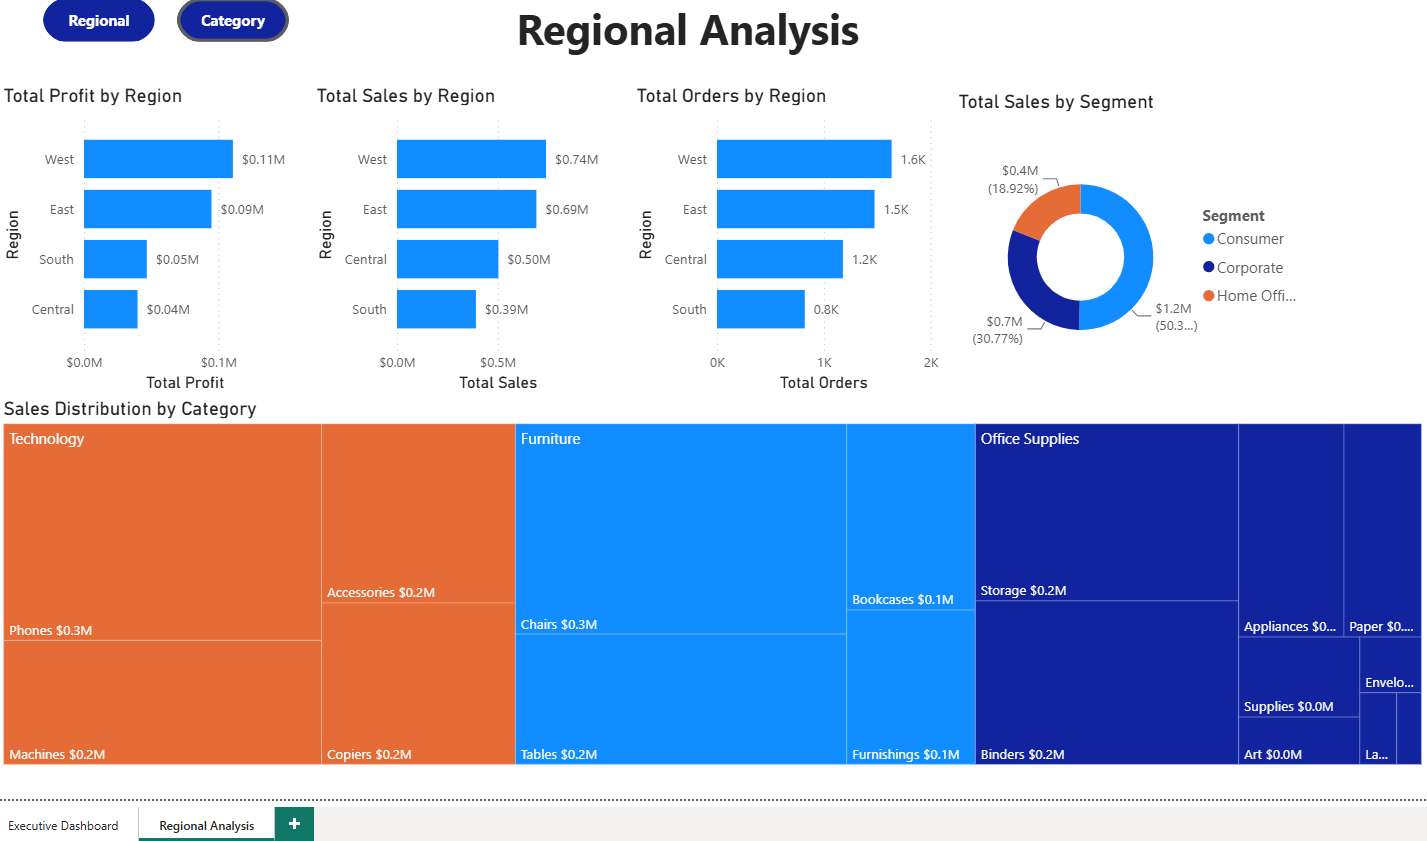

The dashboard page shown, as its layout file describes it:
{"tool":"powerbi","page":{"name":"Regional Analysis","canvas":[1280,720],"ordinal":1},"visuals":[{"type":"clusteredBarChart","fields":{"Category":["sample_-_superstore.Region"],"Y":["sample_-_superstore.Total Profit"]},"box":[0,79.7,280.3,280.3],"z":0},{"type":"textbox","box":[459.4,0,403.9,85.1],"z":1000},{"type":"clusteredBarChart","fields":{"Category":["sample_-_superstore.Region"],"Y":["sample_-_superstore.Total Sales"]},"box":[280.3,79.7,280.3,280.3],"z":2000},{"type":"clusteredBarChart","title":"Total Orders by Region","fields":{"Category":["sample_-_superstore.Region"],"Y":["Count(sample_-_superstore.Order ID)"]},"box":[566.9,79.7,280.3,280.3],"z":3000},{"type":"donutChart","fields":{"Category":["sample_-_superstore.Segment"],"Y":["sample_-_superstore.Total Sales"]},"box":[855.2,85.1,322.4,280.3],"z":4000},{"type":"treemap","title":"Sales Distribution by Category","fields":{"Group":["sample_-_superstore.Category"],"Details":["sample_-_superstore.Sub-Category"],"Values":["sample_-_superstore.Total Sales"]},"box":[0,360,1279.7,334],"z":5000},{"type":"actionButton","box":[40.3,2.7,100.3,39.4],"z":6000},{"type":"actionButton","box":[160.3,2.7,100.3,39.4],"z":7000}]}

Visuals, with their boxes on the page's 1280x720 design canvas (x1, y1, x2, y2). These are canvas units, not pixel positions in the 1427x841 screenshot, which may show the page scaled, cropped or inside an application window:
clusteredBarChart - sample_-_superstore.Region x sample_-_superstore.Total Profit: detection(0, 80, 280, 360)
textbox: detection(459, 0, 863, 85)
clusteredBarChart - sample_-_superstore.Region x sample_-_superstore.Total Sales: detection(280, 80, 561, 360)
"Total Orders by Region" clusteredBarChart: detection(567, 80, 847, 360)
donutChart - sample_-_superstore.Segment x sample_-_superstore.Total Sales: detection(855, 85, 1178, 365)
"Sales Distribution by Category" treemap: detection(0, 360, 1280, 694)
actionButton: detection(40, 3, 141, 42)
actionButton: detection(160, 3, 261, 42)
